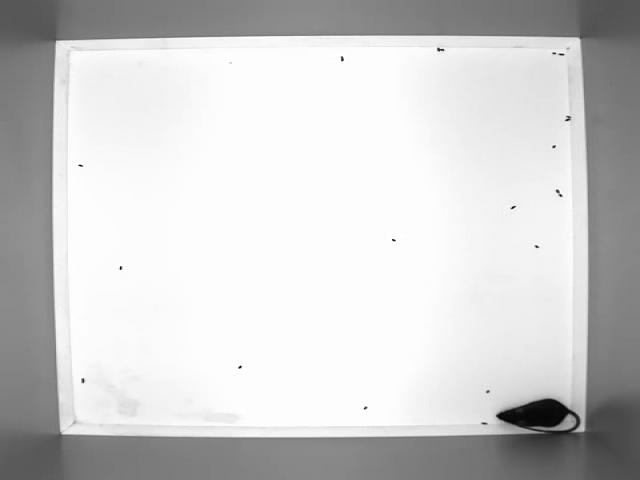Tikus: (496, 396, 584, 434)
